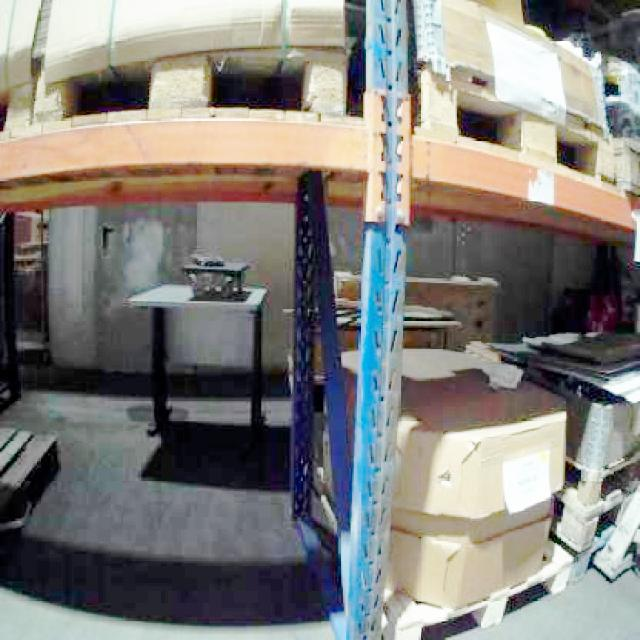ground: (0, 371, 638, 638)
pallet: (320, 345, 569, 611), (332, 269, 500, 351), (0, 418, 60, 571), (8, 208, 49, 362)
